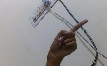hand: (48, 18, 89, 61)
